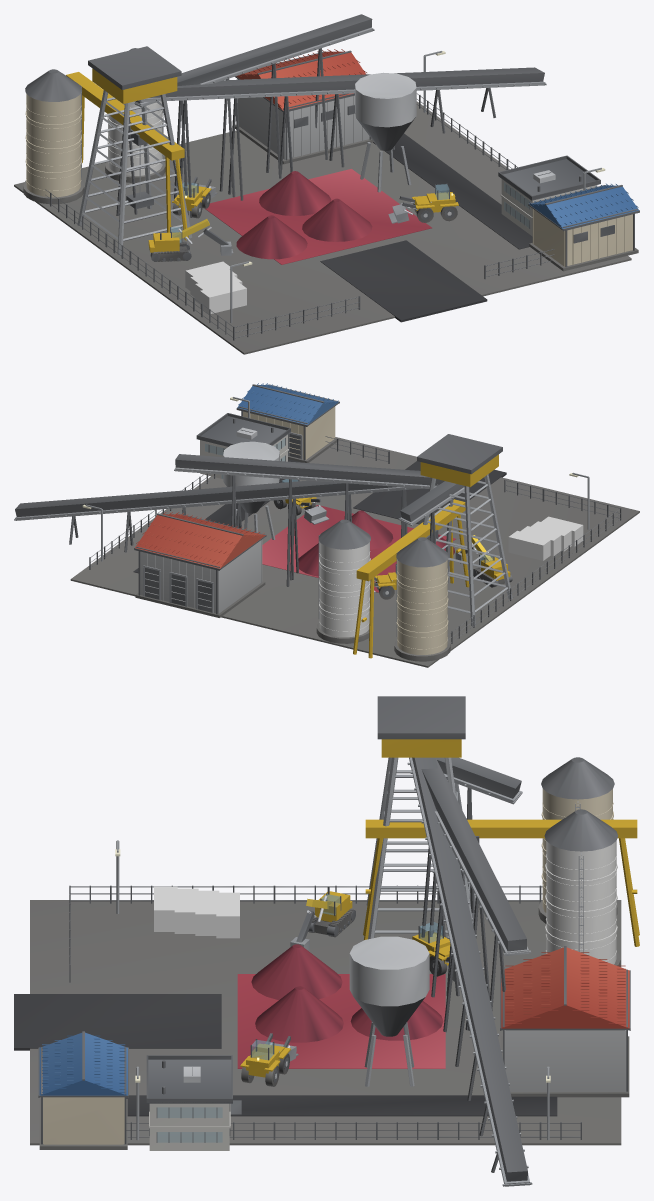
File: Depot_P2.fbx
3 views of the same model, one above another, from view 1: azimuth 30°, elevation 25°; view 2: azimuth 150°, elevation 25°; view 3: azimuth 270°, elevation 25° (orthographic). The views are drawn at different scales.
Visible parts, largest first — view 1: Depot.Yard, Depot.Tower, Depot.ConvMain, Depot.Shed1, Depot.Shed2, Depot.Silo0, Depot.ConvA, Depot.Hopper, Depot.Office, Depot.Gantry, Depot.Fence, Depot.Containers (+7 smaller); view 2: Depot.Yard, Depot.Shed1, Depot.ConvMain, Depot.Tower, Depot.Silo0, Depot.ConvA, Depot.Silo1, Depot.Shed2, Depot.Gantry, Depot.Office, Depot.Fence, Depot.Containers (+7 smaller); view 3: Depot.Yard, Depot.Shed1, Depot.ConvMain, Depot.Shed2, Depot.Silo1, Depot.Tower, Depot.Office, Depot.Hopper, Depot.ConvA, Depot.Gantry, Depot.Fence, Depot.Silo0 (+8 smaller).
Boxes of the visible parts, x1=… form: Depot.Yard: x1=14, y1=101, x2=631, y2=354; Depot.Tower: x1=77, y1=46, x2=191, y2=255; Depot.ConvMain: x1=138, y1=67, x2=546, y2=217; Depot.Shed1: x1=235, y1=49, x2=373, y2=164; Depot.Shed2: x1=528, y1=183, x2=639, y2=271; Depot.Silo0: x1=23, y1=69, x2=84, y2=204; Depot.ConvA: x1=134, y1=14, x2=374, y2=215; Depot.Hopper: x1=355, y1=72, x2=416, y2=192; Depot.Office: x1=498, y1=155, x2=600, y2=236; Depot.Gantry: x1=66, y1=72, x2=188, y2=240; Depot.Fence: x1=45, y1=93, x2=554, y2=340; Depot.Containers: x1=185, y1=261, x2=246, y2=313; Depot.Yard: x1=70, y1=437, x2=639, y2=667; Depot.Shed1: x1=134, y1=512, x2=266, y2=617; Depot.ConvMain: x1=14, y1=480, x2=438, y2=580; Depot.Tower: x1=417, y1=434, x2=512, y2=626; Depot.Silo0: x1=394, y1=537, x2=450, y2=661; Depot.ConvA: x1=174, y1=454, x2=444, y2=586; Depot.Silo1: x1=316, y1=519, x2=370, y2=643; Depot.Shed2: x1=236, y1=383, x2=339, y2=462; Depot.Gantry: x1=353, y1=499, x2=469, y2=658; Depot.Office: x1=196, y1=413, x2=290, y2=478; Depot.Fence: x1=89, y1=436, x2=621, y2=643; Depot.Containers: x1=508, y1=516, x2=583, y2=560; Depot.Yard: x1=14, y1=900, x2=621, y2=1145; Depot.Shed1: x1=500, y1=946, x2=630, y2=1097; Depot.ConvMain: x1=409, y1=757, x2=532, y2=1186; Depot.Shed2: x1=38, y1=1031, x2=128, y2=1149; Depot.Silo1: x1=544, y1=809, x2=620, y2=966; Depot.Tower: x1=366, y1=696, x2=475, y2=939; Depot.Office: x1=146, y1=1055, x2=241, y2=1150; Depot.Hopper: x1=349, y1=936, x2=429, y2=1086; Depot.ConvA: x1=407, y1=758, x2=531, y2=1030; Depot.Gantry: x1=363, y1=819, x2=639, y2=946; Depot.Fence: x1=69, y1=885, x2=581, y2=1139; Depot.Silo0: x1=538, y1=757, x2=617, y2=923.
Bounding box in the file's own units: 9109 × 2967 × 7833.
